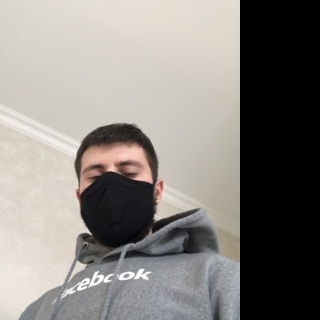with_mask: (80, 156, 155, 246)
